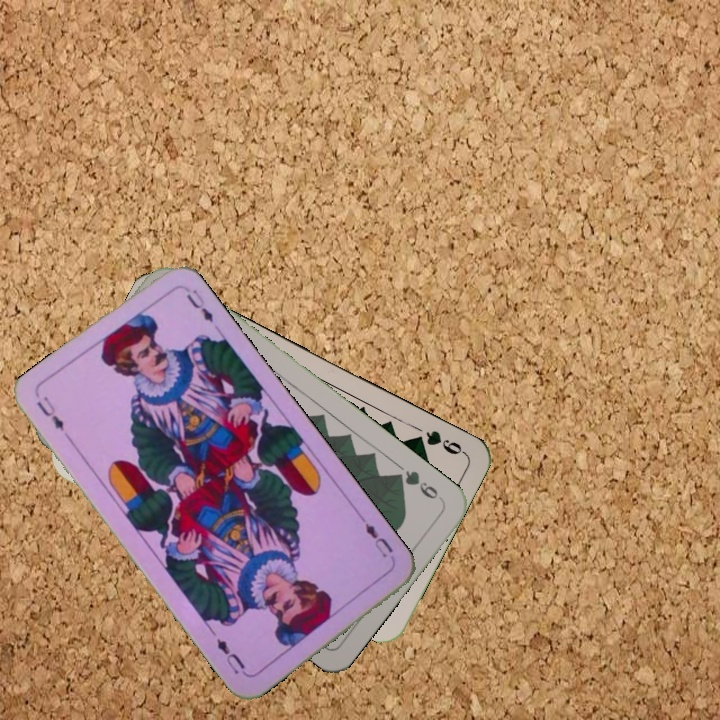EU: (356, 514, 396, 561), (32, 392, 67, 434)
G9: (390, 466, 446, 504), (408, 426, 468, 458)
